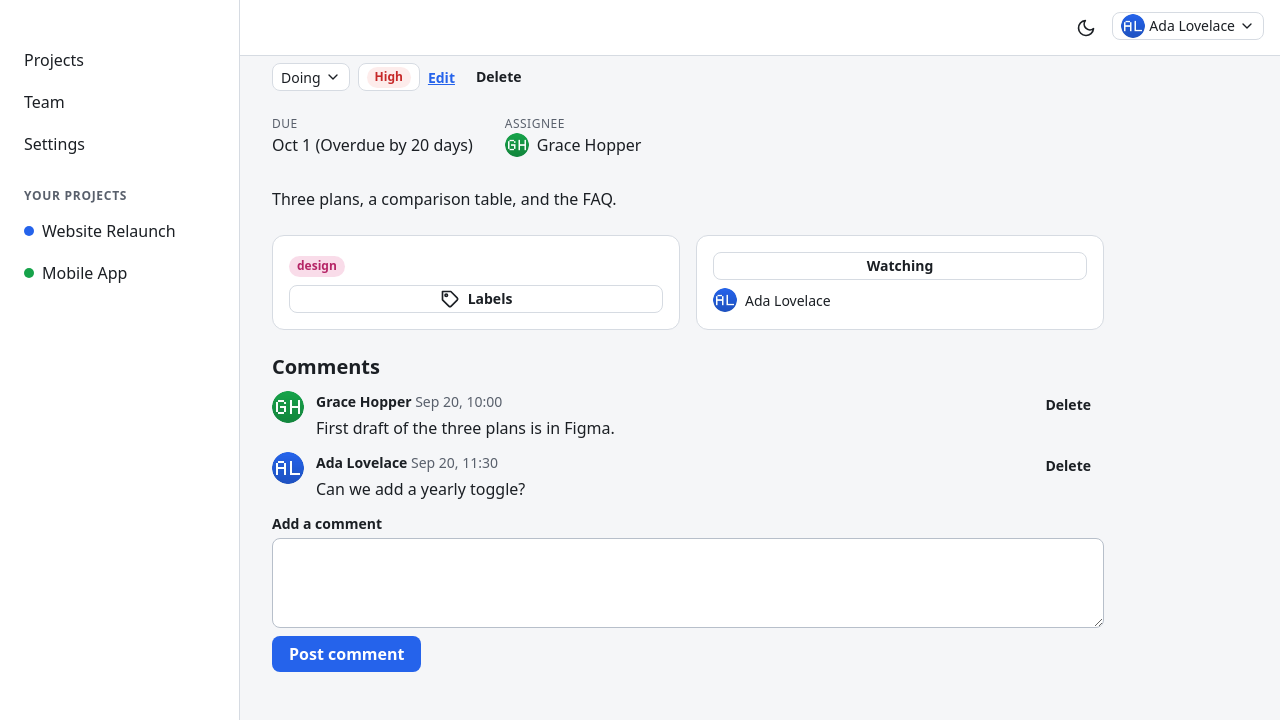
a failed post rolls back and keeps the text
This screenshot has width=1280, height=720.
(page scrolled)
Expected: the text "First draft of the three plans is in Figma." is shown, [316,417,615,439]
Type "This will fail #fail" into the text box labelled "Add a comment" at point(688, 583), box [272,538,1104,628]
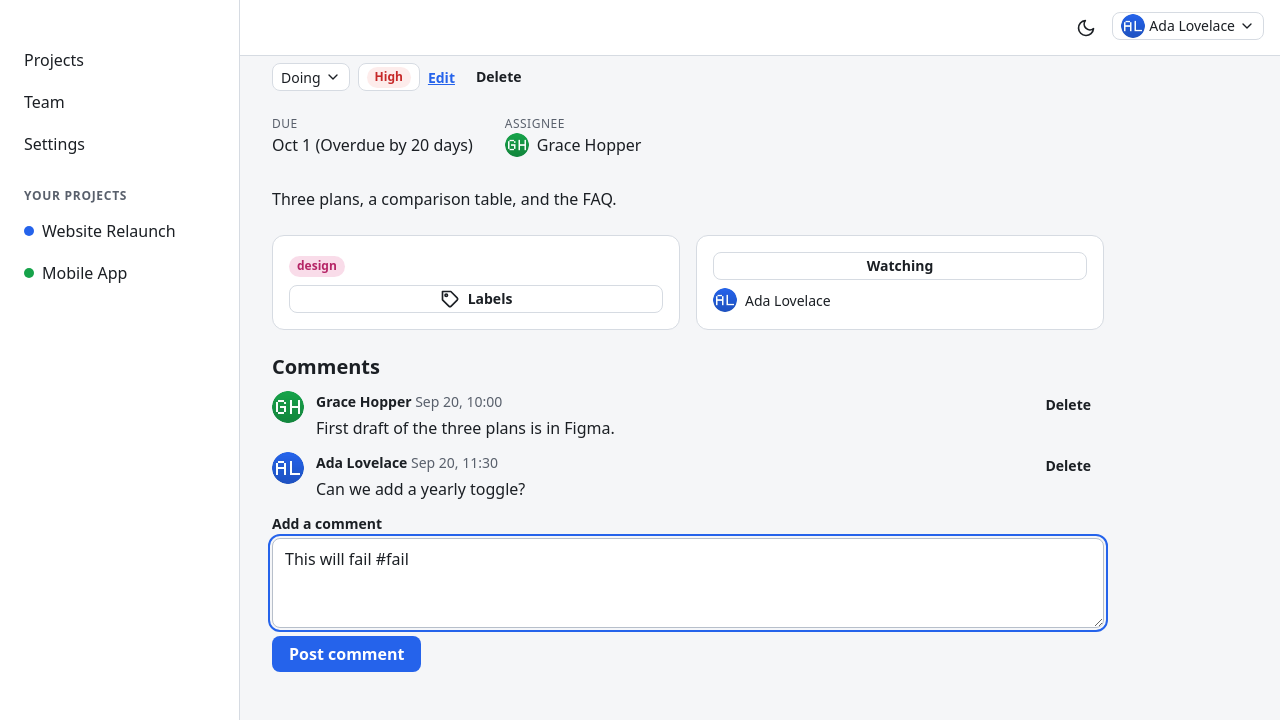
Click the button "Post comment" at point(347, 654), box [272,636,422,672]
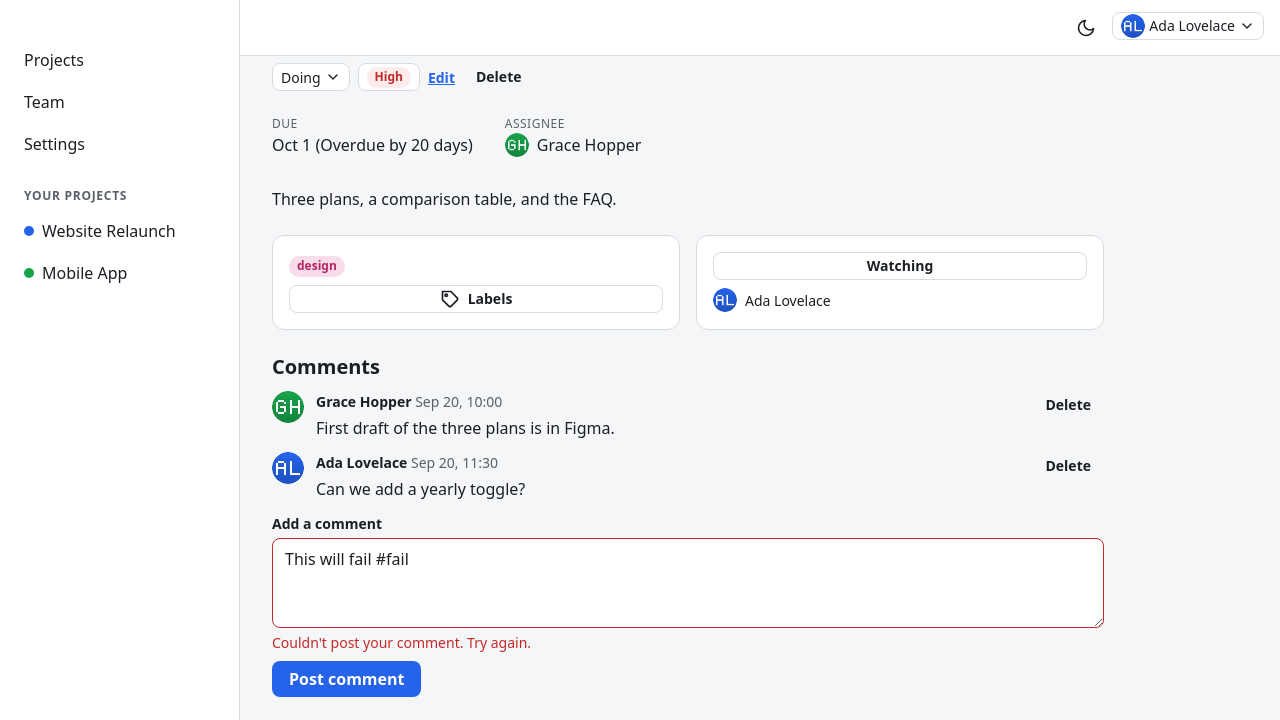
Expected: the text "Couldn't post your comment. Try again." is shown, [272,633,531,652]
